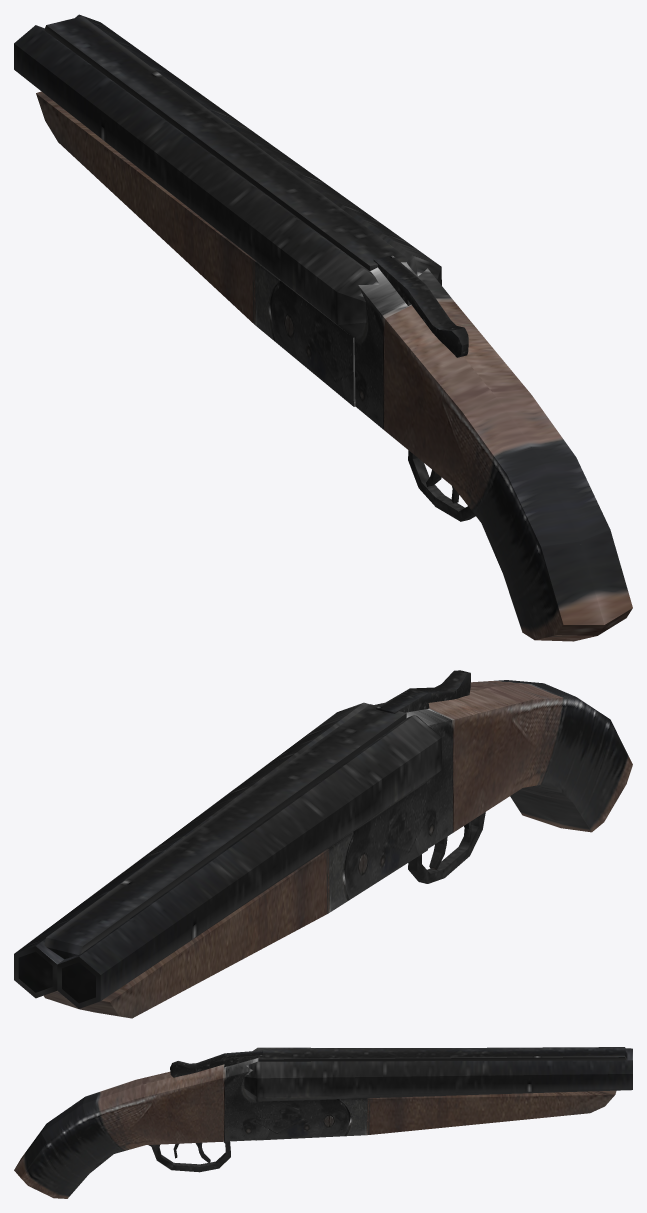
The model's file is Shotgun.fbx.
The picture shows the model from 3 angles, top to bottom: view 1: azimuth 30°, elevation 25°; view 2: azimuth 150°, elevation 25°; view 3: azimuth 270°, elevation 25°; orthographic projection. The views are drawn at different scales.
Visible parts, largest first — view 1: Body, Thing?; view 2: Body, Thing?; view 3: Body, Thing?.
Part boxes in pixels (bbox=[...]): Body: bbox=[14, 14, 632, 641]; Thing?: bbox=[373, 255, 468, 357]; Body: bbox=[14, 680, 632, 1018]; Thing?: bbox=[376, 670, 470, 713]; Body: bbox=[14, 1047, 632, 1198]; Thing?: bbox=[170, 1050, 262, 1077].
Size of the model in its own units: 229 by 522 by 2075.
